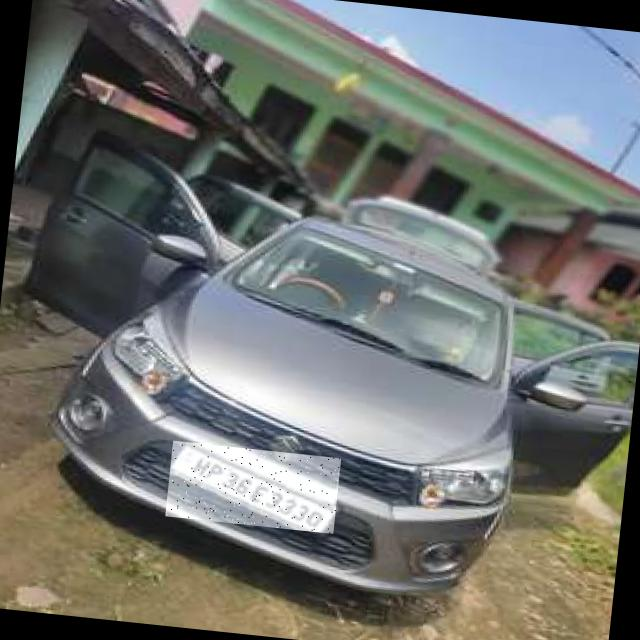Plate: (166, 442, 342, 535)
